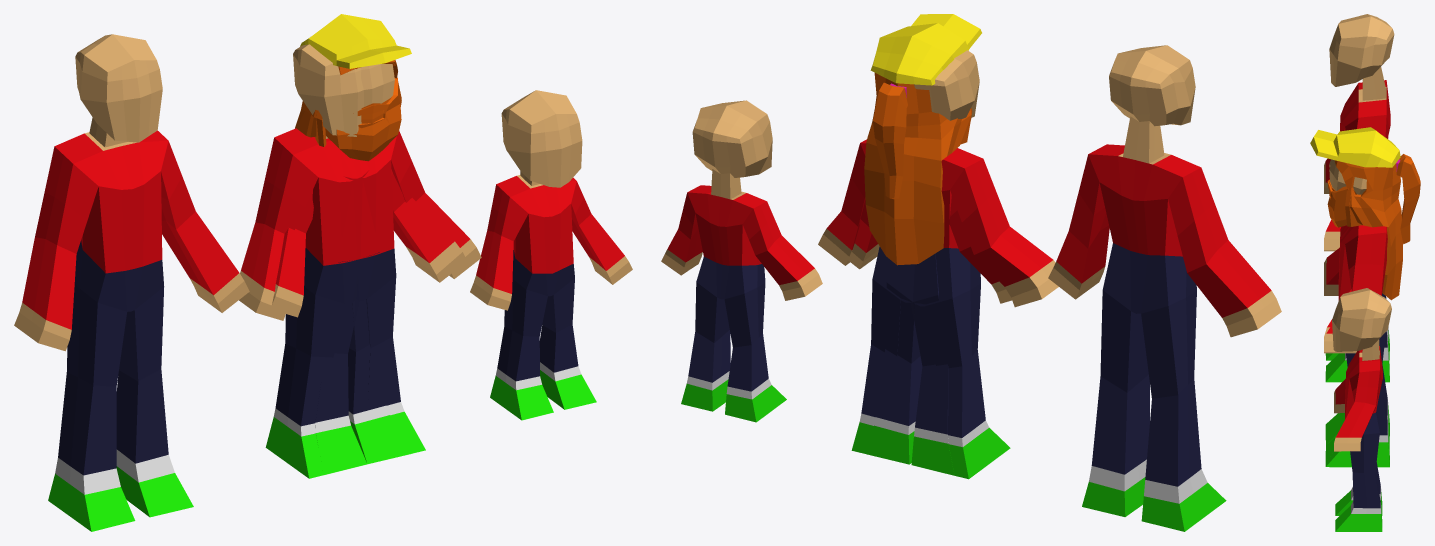
Rendered from runner.glb.
The picture shows the model from 3 angles, left to right: view 1: azimuth 30°, elevation 25°; view 2: azimuth 150°, elevation 25°; view 3: azimuth 270°, elevation 25°; orthographic projection. The views are drawn at different scales.
Visible parts, largest first — view 1: high, color, kid, standart, cap, long_beard; view 2: high, color, kid, standart, long, cap, ponytail, medium; view 3: kid, high, standart, long, cap, medium, ponytail, color, long_beard.
Part boxes in pixels (x1,y1,x2,y2): high: [14, 34, 249, 531]; color: [239, 44, 466, 478]; kid: [470, 90, 632, 420]; standart: [270, 64, 481, 474]; cap: [300, 14, 411, 68]; long_beard: [325, 77, 401, 161]; high: [1048, 45, 1281, 531]; color: [832, 50, 1058, 479]; kid: [661, 100, 822, 422]; standart: [818, 139, 1027, 475]; long: [864, 74, 971, 265]; cap: [870, 14, 981, 85]; ponytail: [873, 82, 907, 199]; medium: [874, 73, 972, 144]; kid: [1332, 288, 1391, 531]; high: [1324, 14, 1394, 382]; standart: [1324, 160, 1389, 467]; long: [1335, 160, 1402, 300]; cap: [1310, 127, 1400, 167]; medium: [1334, 160, 1400, 226]; ponytail: [1396, 154, 1420, 244]; color: [1324, 159, 1389, 461]; long_beard: [1327, 183, 1356, 227].
Size of the model in its own units: 9.81 by 7.22 by 2.08.
